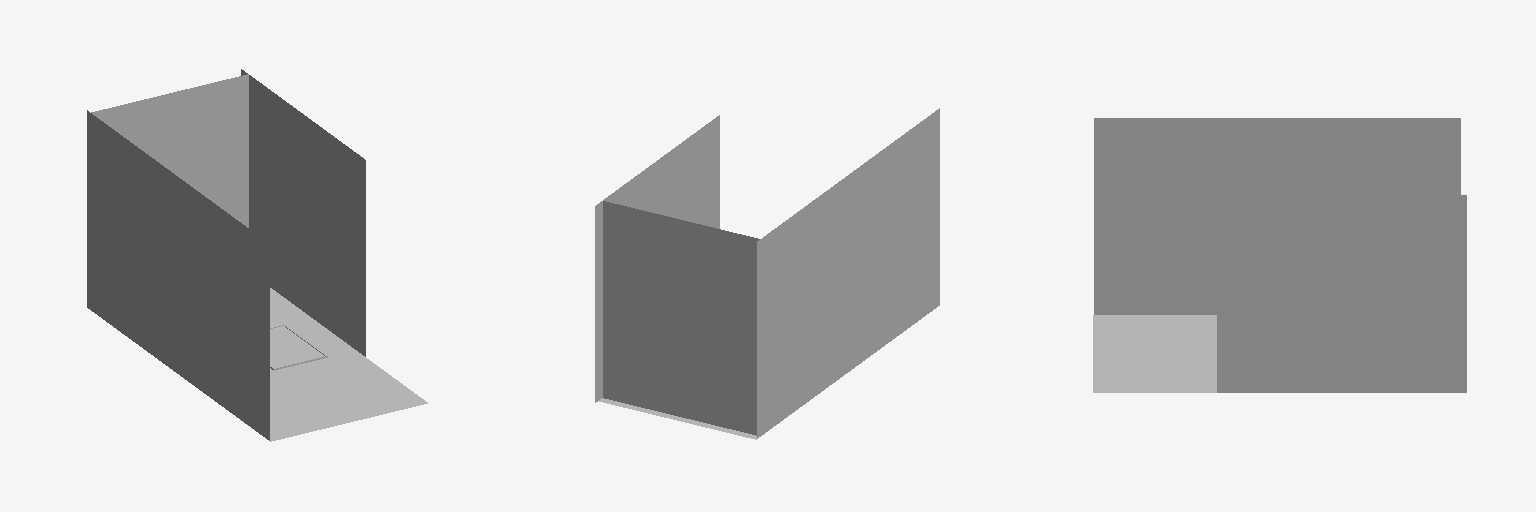
Rendered from spoon.obj.
The picture shows the model from 3 angles: view 1: azimuth 30°, elevation 25°; view 2: azimuth 150°, elevation 25°; view 3: azimuth 270°, elevation 25°; orthographic projection.
Parts seen in each view (by area): view 1: Cube, Cube.003, Cube.002, Cube.001, Plane; view 2: Cube, Cube.002, Cube.003, Cube.001; view 3: Cube.003, Cube, Cube.001.
Boxes of the visible parts, x1=… form: Cube: x1=87, y1=110, x2=269, y2=440; Cube.003: x1=241, y1=69, x2=365, y2=356; Cube.002: x1=91, y1=74, x2=248, y2=227; Cube.001: x1=270, y1=288, x2=427, y2=441; Plane: x1=270, y1=326, x2=323, y2=367; Cube: x1=757, y1=108, x2=939, y2=438; Cube.002: x1=603, y1=201, x2=759, y2=435; Cube.003: x1=595, y1=115, x2=719, y2=402; Cube.001: x1=599, y1=398, x2=756, y2=439; Cube.003: x1=1217, y1=195, x2=1466, y2=392; Cube: x1=1094, y1=118, x2=1460, y2=314; Cube.001: x1=1093, y1=315, x2=1216, y2=392.
Size of the model in its own units: 36.68 by 44.05 by 75.28.